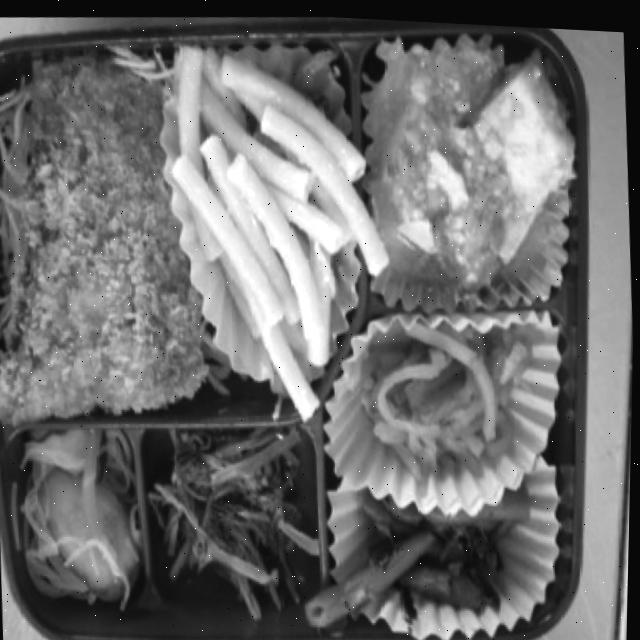炸货点心: (141, 12, 398, 449), (0, 35, 246, 445)
熟制海鲜: (0, 35, 246, 445)
